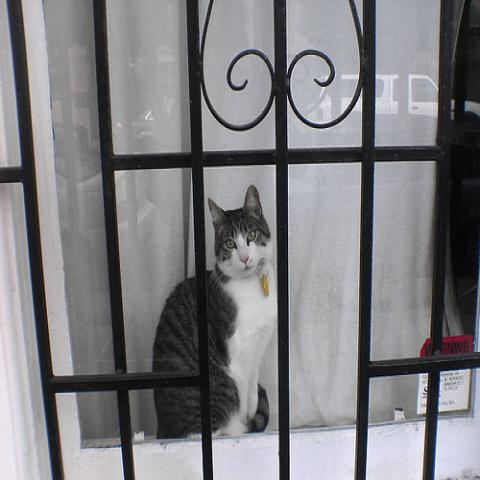car: (54, 139, 158, 299)
